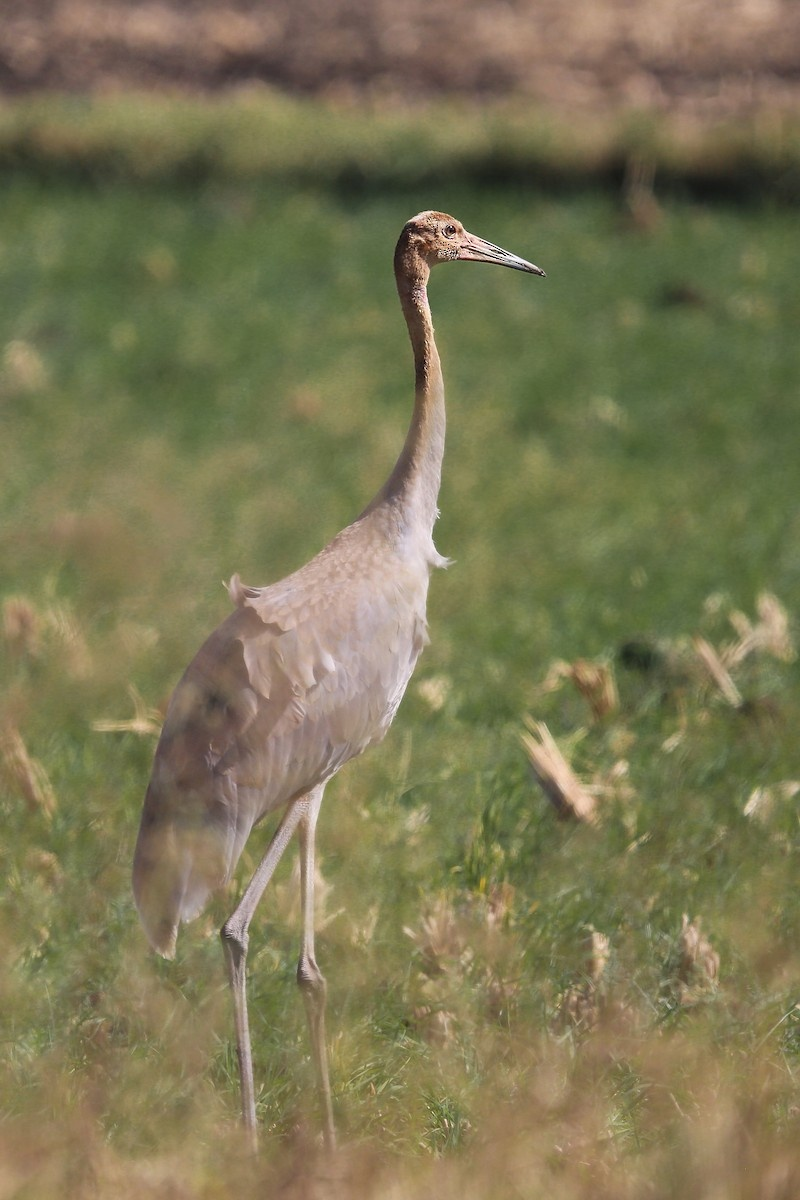crane: (137, 189, 585, 1145)
